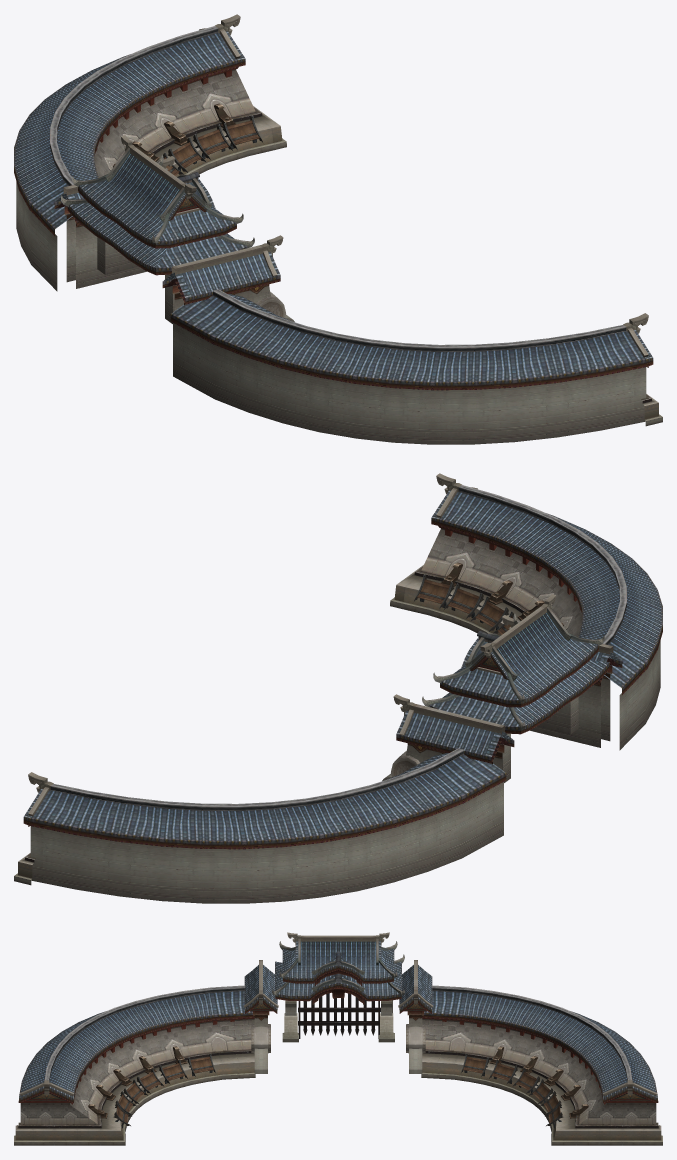
File: zc_zhanchang001_chushengdian01_55_21_8997out.fbx
3 renders of one model, top to bottom at view 1: azimuth 30°, elevation 25°; view 2: azimuth 150°, elevation 25°; view 3: azimuth 270°, elevation 25°, orthographic. The views are drawn at different scales.
Visible parts, largest first — view 1: 0001_zc_zhanchang001_chushengdian01, 0000_zc_zhanchang001_chushengdian01; view 2: 0001_zc_zhanchang001_chushengdian01, 0000_zc_zhanchang001_chushengdian01; view 3: 0000_zc_zhanchang001_chushengdian01, 0001_zc_zhanchang001_chushengdian01.
Part boxes in pixels (x1,y1,x2,y2): 0001_zc_zhanchang001_chushengdian01: (14,26,653,390); 0000_zc_zhanchang001_chushengdian01: (16,14,662,444); 0001_zc_zhanchang001_chushengdian01: (23,485,662,849); 0000_zc_zhanchang001_chushengdian01: (14,473,660,903); 0000_zc_zhanchang001_chushengdian01: (14,932,662,1145); 0001_zc_zhanchang001_chushengdian01: (18,941,658,1102).
Size of the model in its own units: 23.36 by 10.73 by 54.51.
